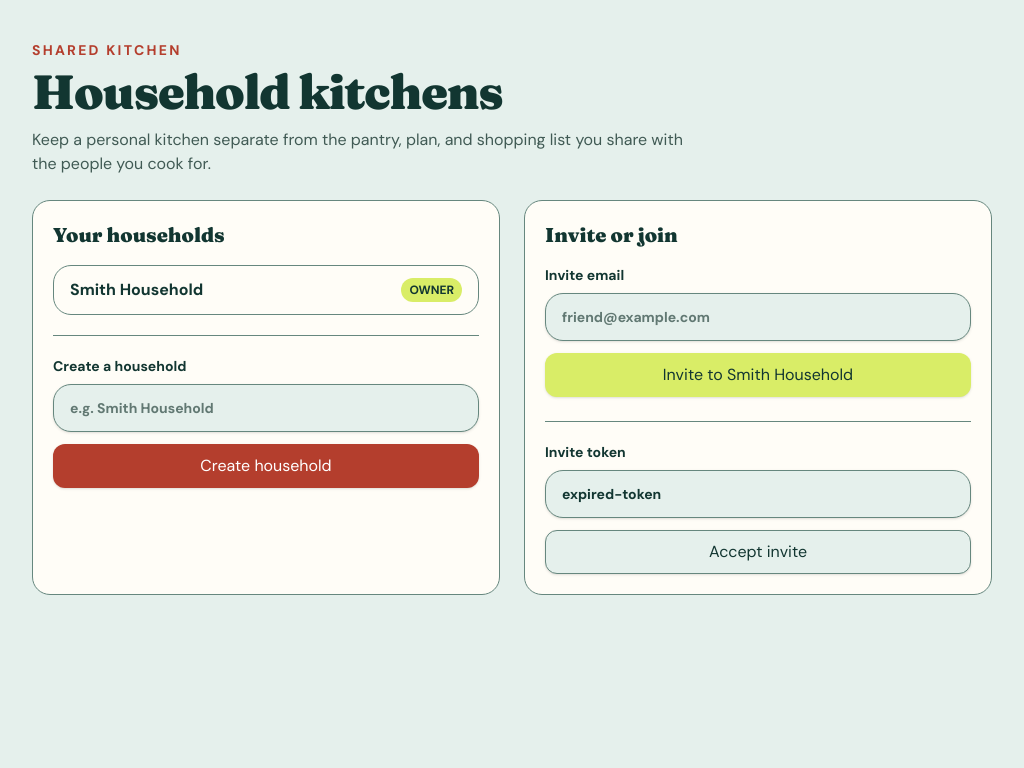
Scenario: HouseholdsPage › surfaces an invalid or expired invite without losing the token draft
Expected: the field showing "expired-token" is shown, [545,470,971,518]
Click the button "Accept invite" at (758, 552), box [545,530,971,574]
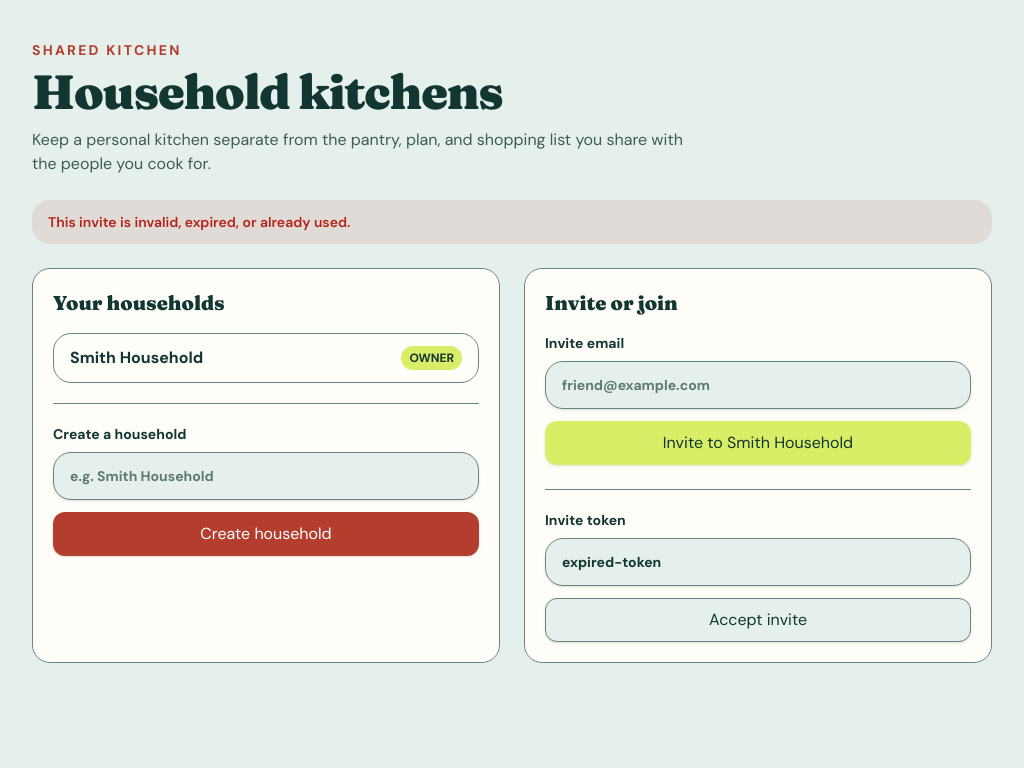
Expected: the field showing "expired-token" is shown, [545,538,971,586]
Expected: the message shows "invalid, expired, or already used", [48,213,350,231]
